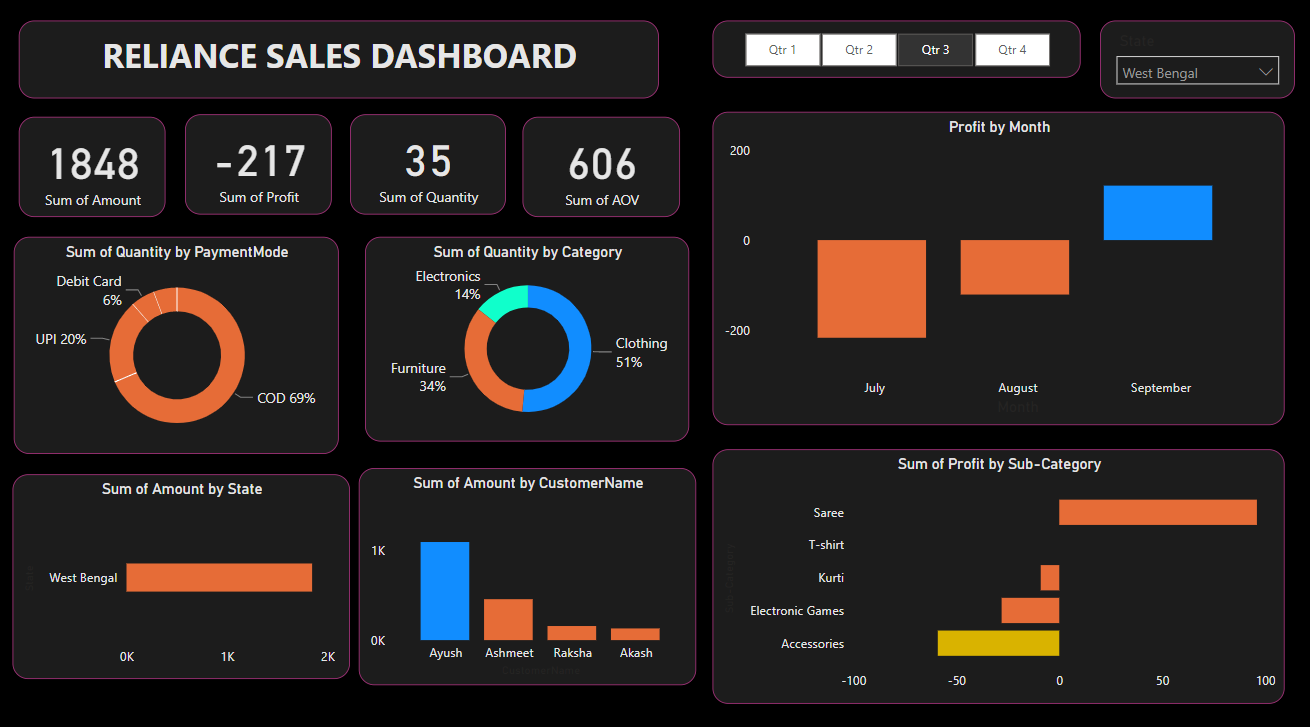

The page's visual inventory and layout, read from the dashboard file:
{"tool":"powerbi","page":{"name":"Page 1","canvas":[1280,720],"ordinal":0},"visuals":[{"type":"textbox","box":[22.5,26.2,617.5,75],"z":0},{"type":"columnChart","title":"Profit by Month","fields":{"Category":["Orders.Order Date.Variation.Date Hierarchy.Month"],"Y":["Details.Profit"]},"box":[692.3,114.6,552.3,302.2],"z":1000},{"type":"barChart","fields":{"Category":["Details.Sub-Category"],"Y":["Details.Profit"]},"box":[692.3,440.7,552.3,245.6],"z":2000},{"type":"donutChart","fields":{"Category":["Details.Category"],"Y":["Details.Quantity"]},"box":[357.5,235.3,312.5,197.5],"z":3000},{"type":"donutChart","fields":{"Y":["Details.Quantity"],"Category":["Details.PaymentMode"]},"box":[18.1,235.2,313.6,209.8],"z":4000},{"type":"card","fields":{"Values":["Details.Amount"]},"box":[22.5,119,141.4,96.8],"z":5000},{"type":"card","fields":{"Values":["Details.Profit"]},"box":[183.3,117.5,141.4,96.8],"z":6000},{"type":"card","fields":{"Values":["Details.Quantity"]},"box":[342.6,117.5,150.4,96.8],"z":7000},{"type":"card","fields":{"Values":["Details.AOV"]},"box":[509.3,119,151.8,96.8],"z":8000},{"type":"barChart","fields":{"Category":["Orders.State"],"Y":["Details.Amount"]},"box":[16.9,464.3,325.6,197.8],"z":9000},{"type":"columnChart","fields":{"Category":["Orders.CustomerName"],"Y":["Details.Amount"]},"box":[351,458.3,325.6,209.8],"z":10000},{"type":"slicer","fields":{"Values":["Orders.Order Date.Variation.Date Hierarchy.Quarter"]},"box":[691.7,26.7,355,55],"z":11000},{"type":"slicer","fields":{"Values":["Orders.State"]},"box":[1066.7,26.7,188.3,75],"z":12000}]}

Visuals, with their boxes in screenshot pixels (x1, y1, x2, y2), scaled from the page's 1280x720 canvas onto the 1310x727 screenshot:
textbox: l=23, t=26, r=655, b=102
"Profit by Month" columnChart: l=709, t=116, r=1274, b=421
barChart - Details.Sub-Category x Details.Profit: l=709, t=445, r=1274, b=693
donutChart - Details.Category x Details.Quantity: l=366, t=238, r=686, b=437
donutChart - Details.Quantity x Details.PaymentMode: l=19, t=237, r=339, b=449
card - Details.Amount: l=23, t=120, r=168, b=218
card - Details.Profit: l=188, t=119, r=332, b=216
card - Details.Quantity: l=351, t=119, r=505, b=216
card - Details.AOV: l=521, t=120, r=677, b=218
barChart - Orders.State x Details.Amount: l=17, t=469, r=351, b=669
columnChart - Orders.CustomerName x Details.Amount: l=359, t=463, r=692, b=675
slicer - Orders.Order Date.Variation.Date Hierarchy.Quarter: l=708, t=27, r=1071, b=82
slicer - Orders.State: l=1092, t=27, r=1284, b=103
